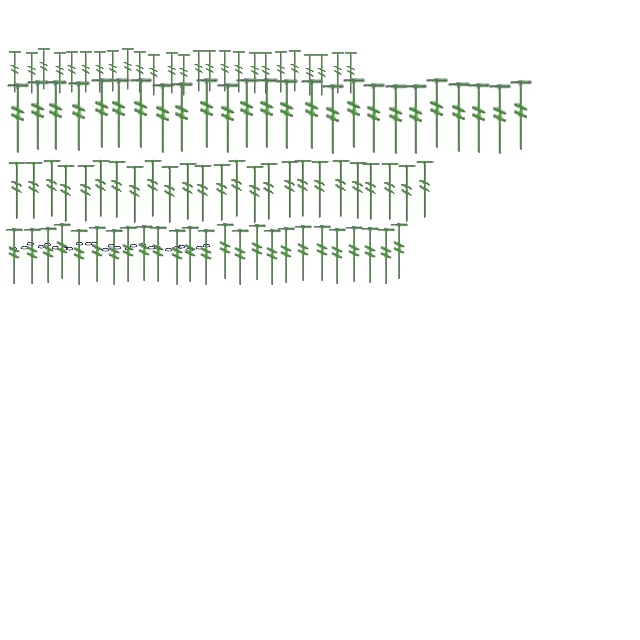chain: (20, 244, 30, 252), (26, 240, 36, 248), (84, 240, 94, 248), (90, 240, 100, 248), (164, 246, 174, 254), (202, 242, 212, 250), (52, 244, 60, 252), (76, 240, 84, 248), (102, 246, 110, 254), (108, 242, 116, 250), (114, 244, 122, 252), (130, 242, 138, 250), (148, 244, 156, 252), (154, 244, 162, 252), (174, 244, 182, 252), (186, 246, 194, 254), (196, 244, 204, 252), (60, 246, 70, 252), (124, 246, 134, 252), (138, 242, 148, 248), (10, 246, 18, 252), (38, 244, 46, 250), (44, 242, 52, 248), (66, 246, 74, 252), (178, 244, 186, 250)
fan: (66, 80, 92, 154), (150, 82, 176, 156), (274, 78, 300, 152), (466, 82, 492, 156), (106, 78, 132, 150), (128, 78, 154, 150), (194, 78, 220, 150), (234, 78, 260, 150), (254, 78, 280, 150), (320, 84, 346, 156), (424, 78, 450, 150), (446, 82, 472, 154), (508, 80, 534, 152), (6, 82, 30, 156), (216, 82, 240, 156), (300, 78, 324, 152), (362, 82, 386, 156), (26, 80, 50, 152), (44, 80, 68, 152), (90, 78, 114, 150), (170, 82, 194, 154), (342, 78, 366, 150), (384, 84, 408, 156), (404, 84, 428, 156), (488, 84, 512, 156), (55, 162, 77, 226), (75, 162, 97, 226), (106, 158, 128, 222), (177, 160, 199, 224), (192, 162, 214, 226), (258, 160, 280, 224), (279, 158, 301, 222), (309, 158, 331, 222), (360, 160, 382, 224), (379, 160, 401, 224), (396, 162, 418, 226), (414, 158, 436, 222), (6, 160, 28, 222), (23, 160, 45, 222), (41, 158, 63, 220), (90, 158, 112, 220), (124, 164, 146, 226), (142, 158, 164, 220), (159, 164, 181, 226), (211, 162, 233, 224), (226, 158, 248, 220), (244, 164, 266, 226), (292, 158, 314, 220), (330, 158, 352, 220), (347, 160, 369, 222), (38, 226, 58, 286), (52, 222, 72, 282), (69, 228, 89, 288), (104, 228, 124, 288), (134, 224, 154, 284), (167, 228, 187, 288), (196, 228, 216, 288), (215, 222, 235, 282), (230, 228, 250, 288), (262, 228, 282, 288), (276, 226, 296, 286), (293, 224, 313, 284), (312, 224, 332, 284), (360, 226, 380, 286), (389, 222, 409, 282), (4, 228, 24, 286), (22, 228, 42, 286), (87, 226, 107, 284), (118, 226, 138, 284), (148, 226, 168, 284), (180, 226, 200, 284), (247, 224, 267, 282), (327, 228, 347, 286), (344, 226, 364, 284), (376, 228, 396, 286), (7, 49, 23, 95), (24, 50, 40, 96), (36, 46, 52, 92), (52, 50, 68, 96), (64, 49, 80, 95), (78, 49, 94, 95), (92, 49, 108, 95), (105, 48, 121, 94), (120, 46, 136, 92), (132, 49, 148, 95), (146, 52, 162, 98), (164, 50, 180, 96), (176, 52, 192, 98), (191, 48, 207, 94), (202, 48, 218, 94), (217, 48, 233, 94), (231, 49, 247, 95), (247, 50, 263, 96), (258, 50, 274, 96), (273, 49, 289, 95), (287, 48, 303, 94), (302, 52, 318, 98), (314, 52, 330, 98), (330, 50, 346, 96), (343, 50, 359, 96)
